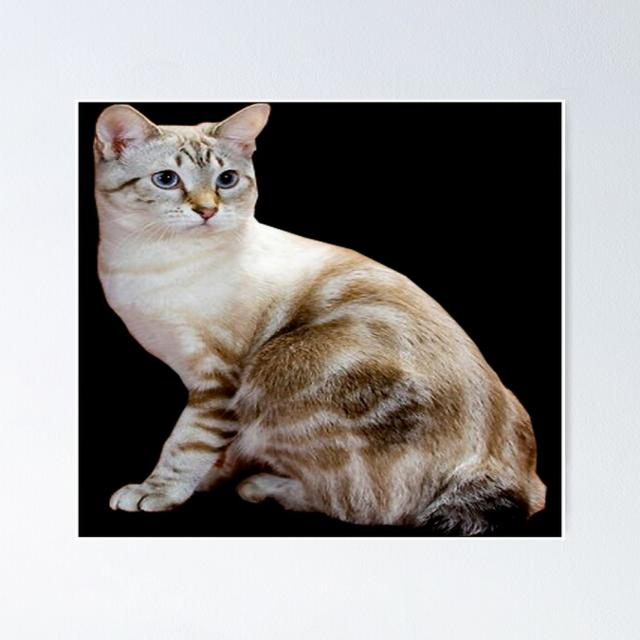American Bobtail: (89, 102, 554, 538)
